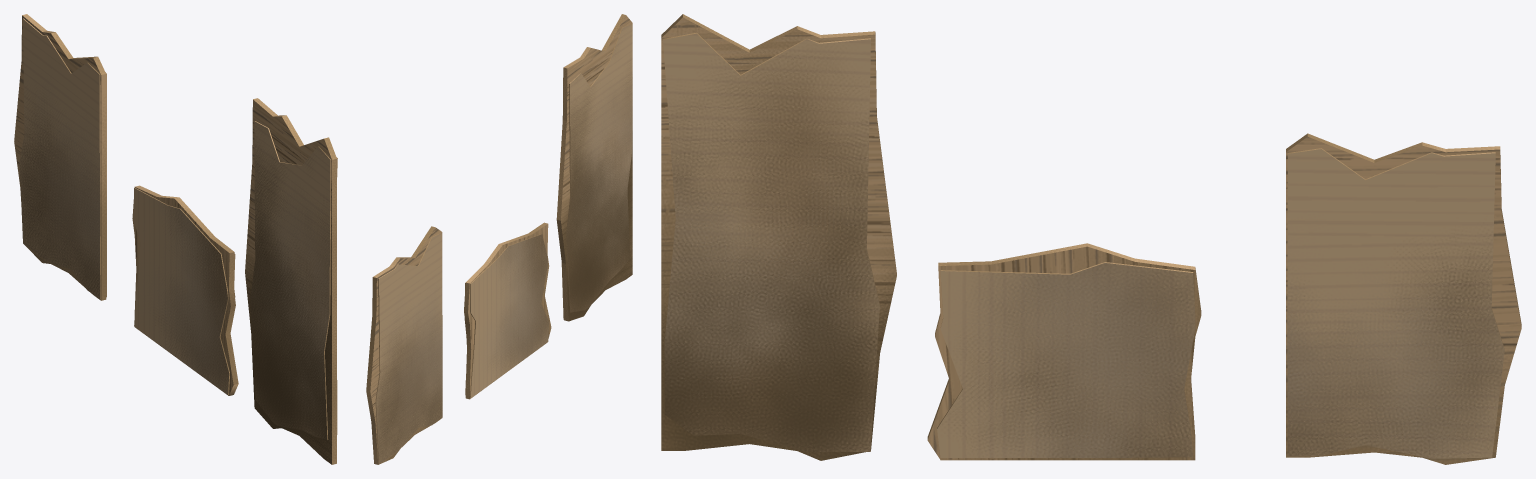
File: vo_carton_pedazos.glb
3 views of the same model, side by side, from view 1: azimuth 30°, elevation 25°; view 2: azimuth 150°, elevation 25°; view 3: azimuth 270°, elevation 25° (orthographic). The views are drawn at different scales.
Parts seen in each view (by area): view 1: pCube18, pCube16, pCube17; view 2: pCube18, pCube16, pCube17; view 3: pCube18, pCube16, pCube17.
Boxes of the visible parts, x1=… form: pCube18: x1=245, y1=98, x2=337, y2=464; pCube16: x1=14, y1=14, x2=106, y2=300; pCube17: x1=132, y1=185, x2=238, y2=395; pCube18: x1=556, y1=14, x2=632, y2=321; pCube16: x1=366, y1=226, x2=442, y2=464; pCube17: x1=464, y1=222, x2=551, y2=399; pCube18: x1=661, y1=14, x2=896, y2=460; pCube16: x1=1286, y1=133, x2=1521, y2=464; pCube17: x1=927, y1=243, x2=1201, y2=460.
Size of the model in its own units: 0.062 by 2.69 by 4.69.
1 material, 1 textured.
